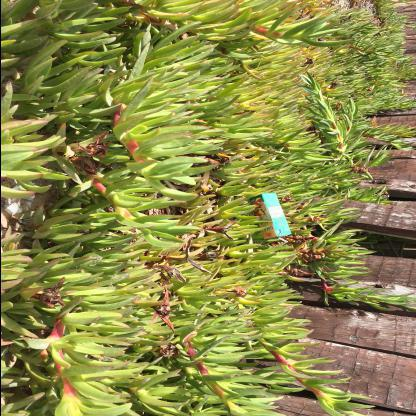karton: (249, 193, 292, 241)
